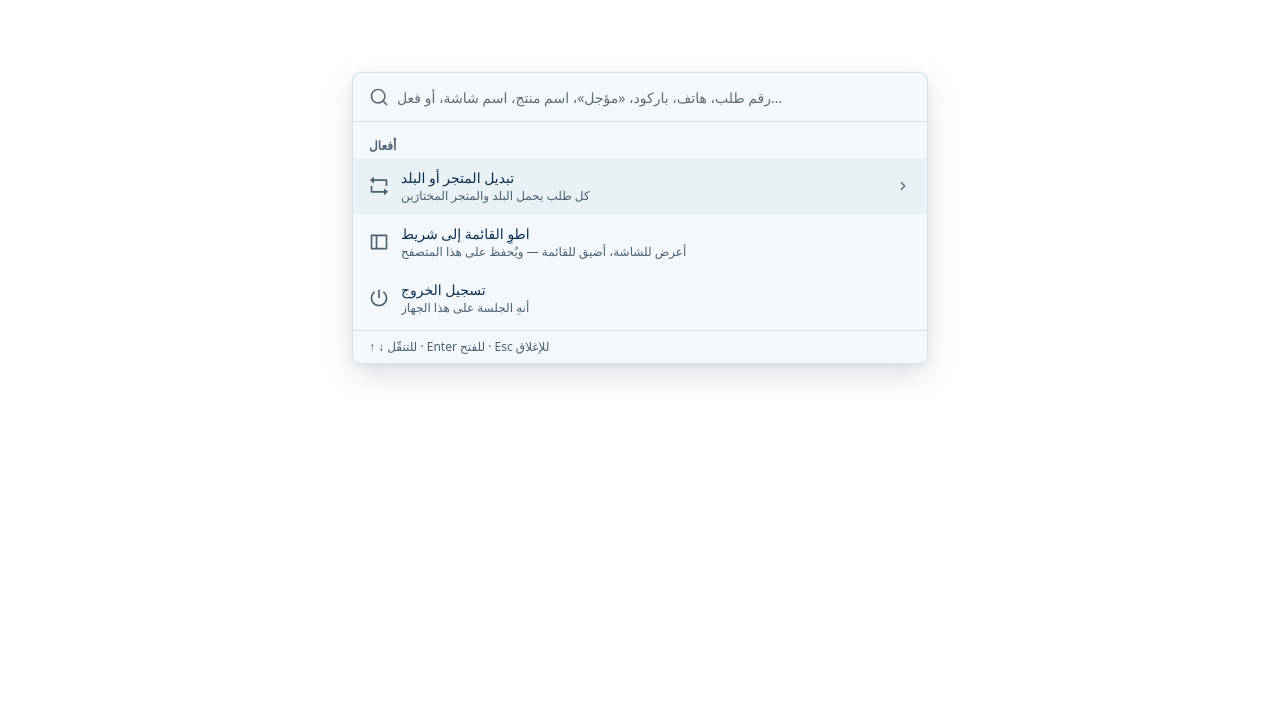
Test: the screens it offers › and typing part of a name narrows to it
Type "مرتجع" into the field named "ابحث أو انتقل أو نفّذ" at point(654, 97), box [397, 73, 911, 121]
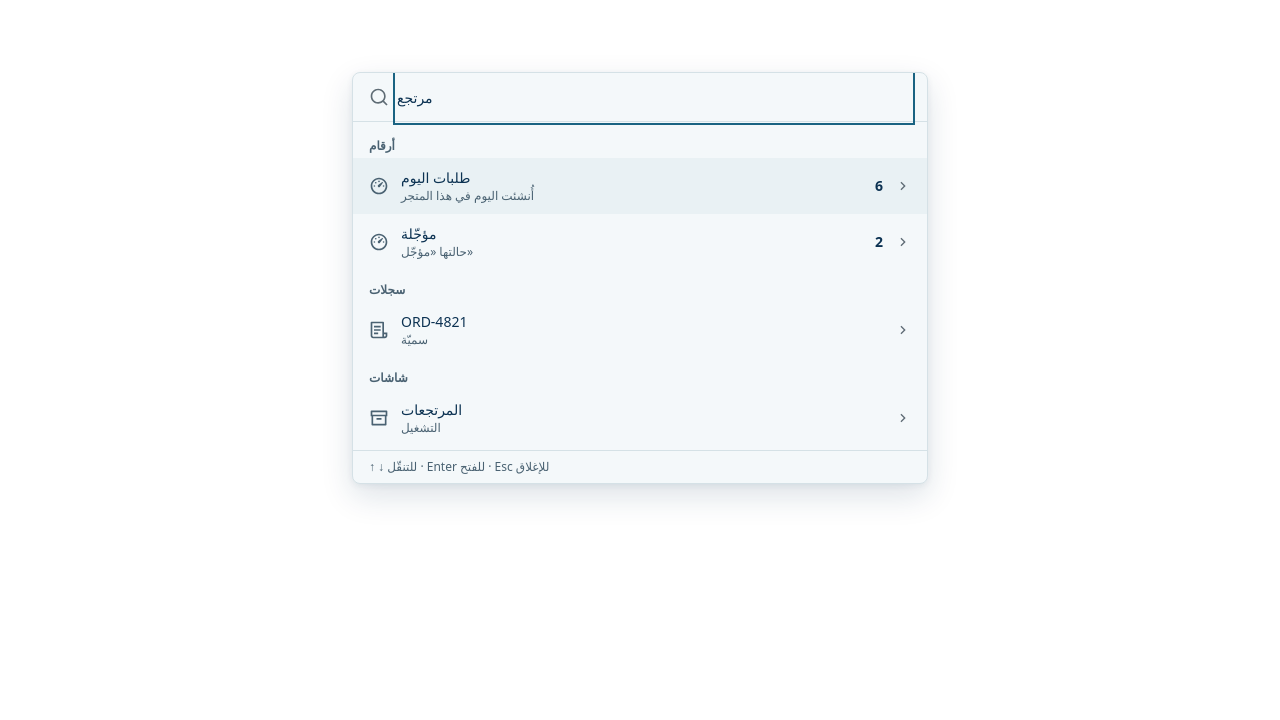
Check: the text "المرتجعات" is shown, box [401, 400, 462, 419]
